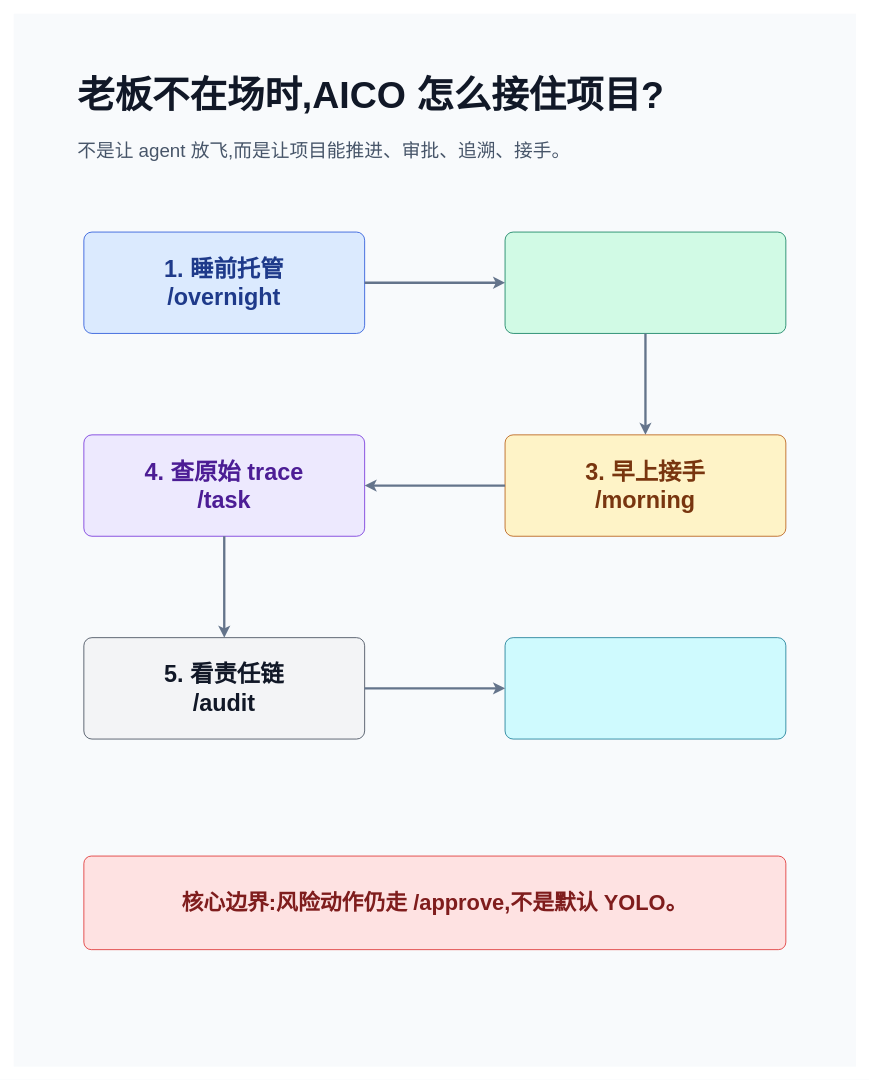
The diagram is 869 pixels wide and 1080 high, and some of its shapes have lost their labels. The shapes that lost their labels are listed below. From the top down, each one's centre as x and y in pixels, then its label:
At (x=645, y=282): "2. 当前注意力 /inbox".
At (x=645, y=688): "6. 看全局快照 /view".
